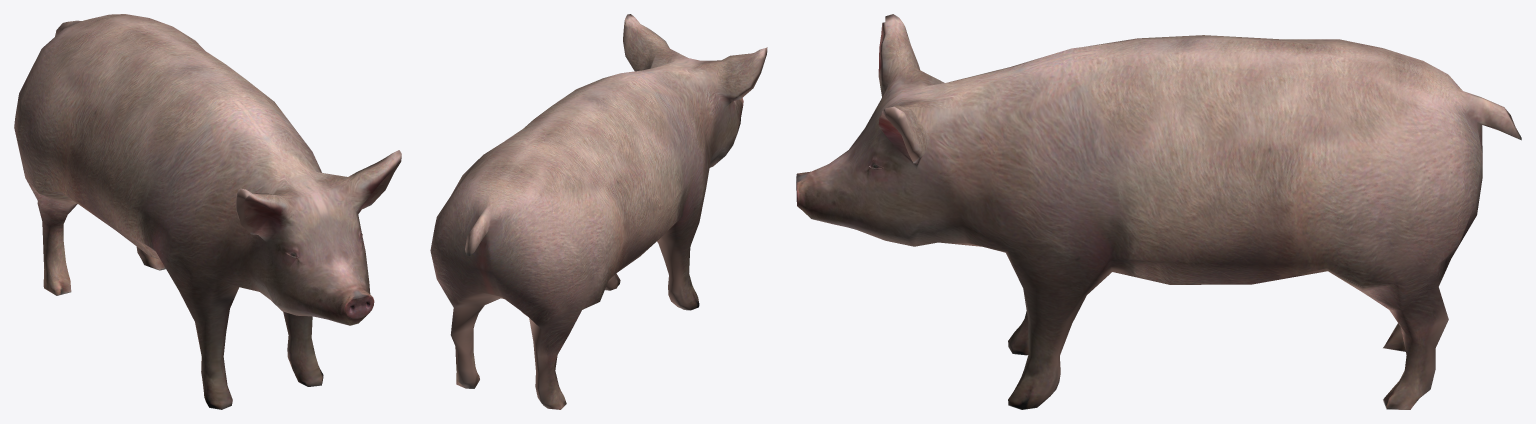
Rendered from Pig FBX.fbx.
The picture shows the model from 3 angles, left to right: view 1: azimuth 30°, elevation 25°; view 2: azimuth 150°, elevation 25°; view 3: azimuth 270°, elevation 25°; orthographic projection. The views are drawn at different scales.
Parts seen in each view (by area): view 1: polySurface3; view 2: polySurface3; view 3: polySurface3.
Boxes of the visible parts, bbox=[...] form: polySurface3: bbox=[14, 14, 401, 409]; polySurface3: bbox=[430, 14, 767, 409]; polySurface3: bbox=[796, 14, 1521, 409].
Bounding box in the file's own units: 0.9235 × 1.34 × 2.65.
Materials: 1 (1 with a texture image).
